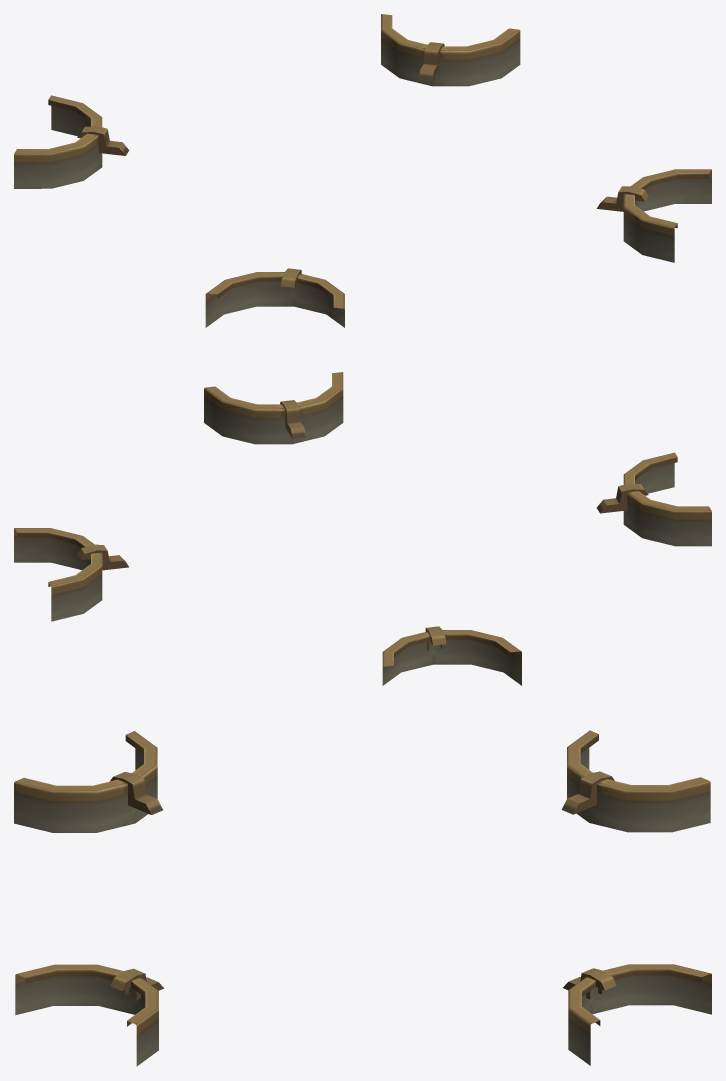
File: cs_xinzhucheng_huatan_002.FBX
3 views of the same model, one above another, from view 1: azimuth 30°, elevation 25°; view 2: azimuth 150°, elevation 25°; view 3: azimuth 270°, elevation 25° (orthographic). The views are drawn at different scales.
Visible parts, largest first — view 1: cs_xinzhucheng_huatan_002; view 2: cs_xinzhucheng_huatan_002; view 3: cs_xinzhucheng_huatan_002.
Boxes of the visible parts, <box> form: cs_xinzhucheng_huatan_002: <box>14,14,711,327</box>; cs_xinzhucheng_huatan_002: <box>14,372,711,685</box>; cs_xinzhucheng_huatan_002: <box>14,730,711,1066</box>.
Bounding box in the file's own units: 169 × 11.89 × 169.
